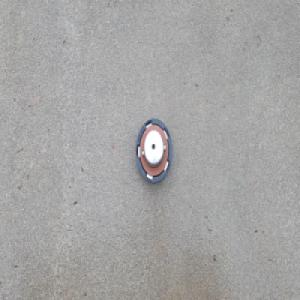FuelCap: (133, 114, 172, 183)
